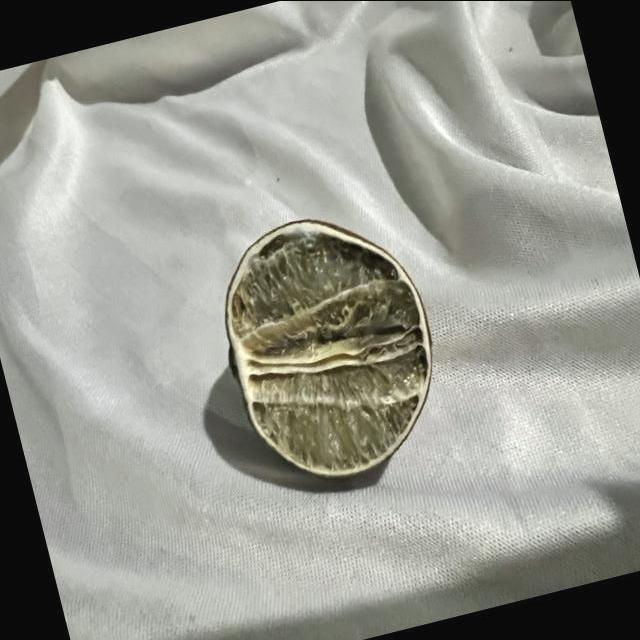Pathological: (0, 1, 639, 640)
Sharps: (223, 218, 432, 479)
